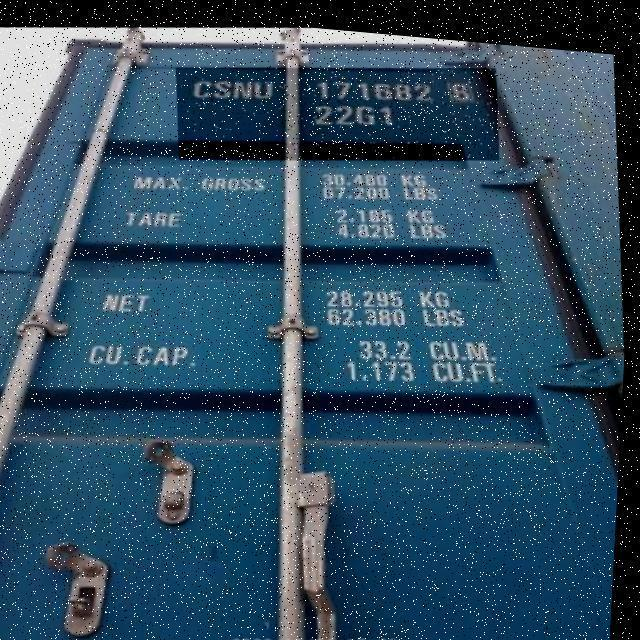container_number_h: (172, 36, 504, 178)
